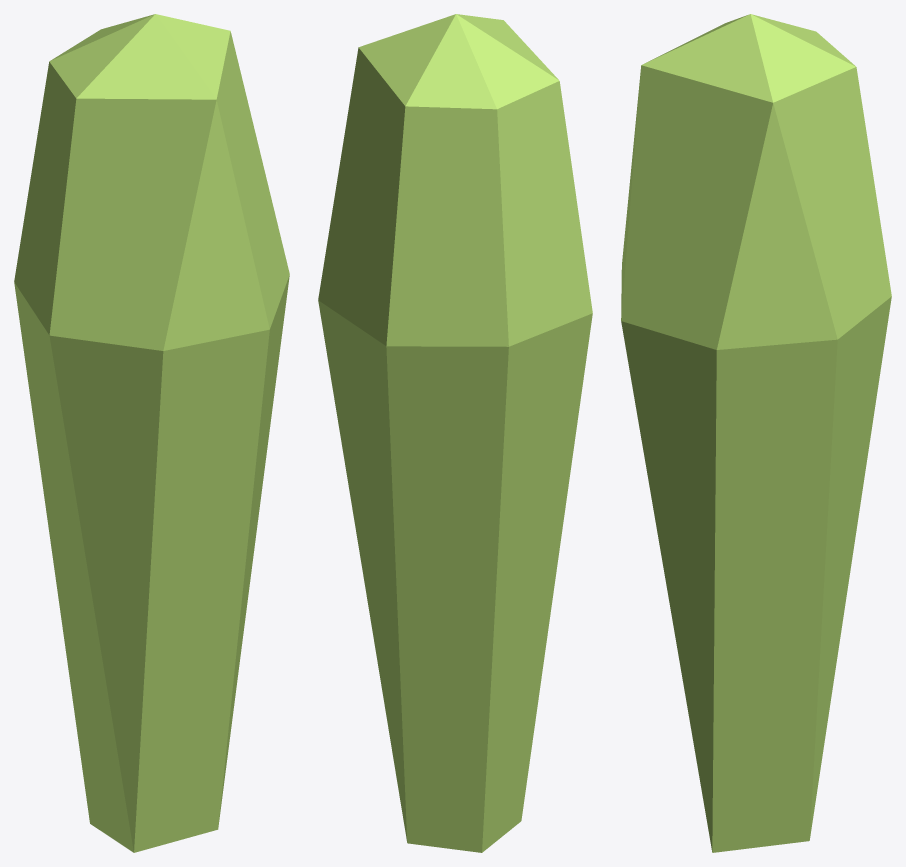
Rendered from Cactus_a_m_01.fbx.
The picture shows the model from 3 angles, left to right: view 1: azimuth 30°, elevation 25°; view 2: azimuth 150°, elevation 25°; view 3: azimuth 270°, elevation 25°; orthographic projection.
Visible parts, largest first — view 1: Cactus_a_m_01; view 2: Cactus_a_m_01; view 3: Cactus_a_m_01.
Boxes of the visible parts, x1,y1,x2,y2 form: Cactus_a_m_01: (14,14,289,852); Cactus_a_m_01: (318,14,592,852); Cactus_a_m_01: (621,14,891,852).
Size of the model in its own units: 62.24 by 202 by 60.71.
